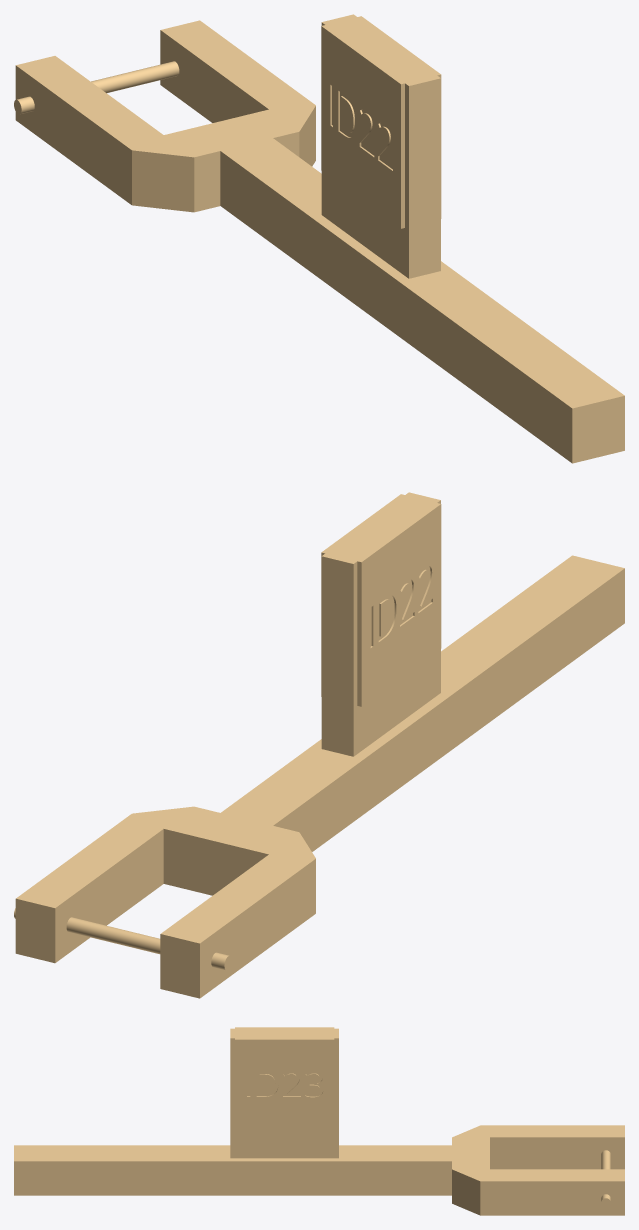
File: BLOCK CAD FIELD - BLOCK CAD- TRENCH, HINGED ARM, BLUE.gltf
The picture shows the model from 3 angles, top to bottom: view 1: azimuth 30°, elevation 25°; view 2: azimuth 150°, elevation 25°; view 3: azimuth 270°, elevation 25°; orthographic projection. The views are drawn at different scales.
Visible parts, largest first — view 1: BLOCK CAD: TRENCH, HINGED ARM, BLUE; view 2: BLOCK CAD: TRENCH, HINGED ARM, BLUE; view 3: BLOCK CAD: TRENCH, HINGED ARM, BLUE.
Boxes of the visible parts, x1,y1,x2,y2 form: BLOCK CAD: TRENCH, HINGED ARM, BLUE: (14,14,624,463); BLOCK CAD: TRENCH, HINGED ARM, BLUE: (14,492,624,998); BLOCK CAD: TRENCH, HINGED ARM, BLUE: (14,1027,624,1215).
Bounding box in the file's own units: 0.4064 × 0.4572 × 1.64.
